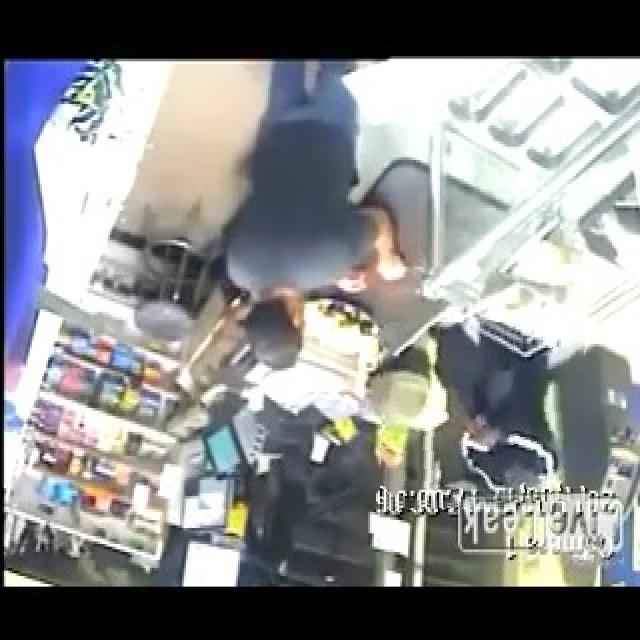Shoplifting: (380, 322, 586, 508)
